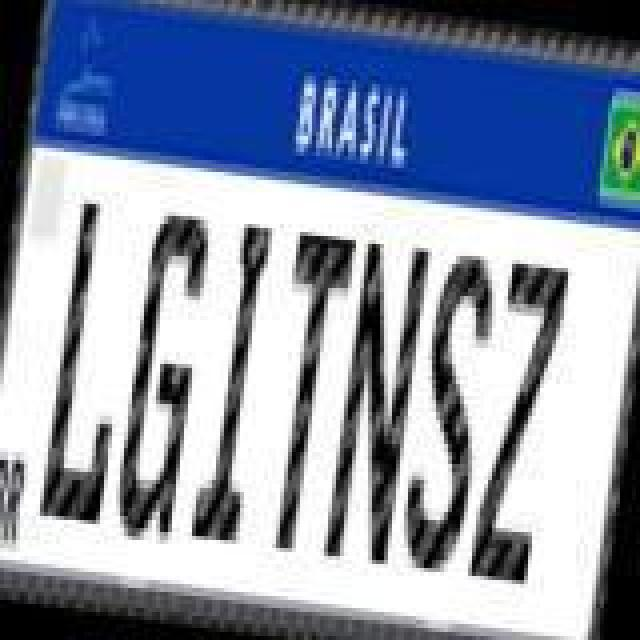G: (106, 204, 214, 548)
I: (188, 218, 284, 550)
L: (34, 194, 142, 526)
N: (320, 232, 432, 568)
S: (392, 248, 504, 584)
T: (252, 226, 356, 558)
Z: (466, 256, 574, 592)
